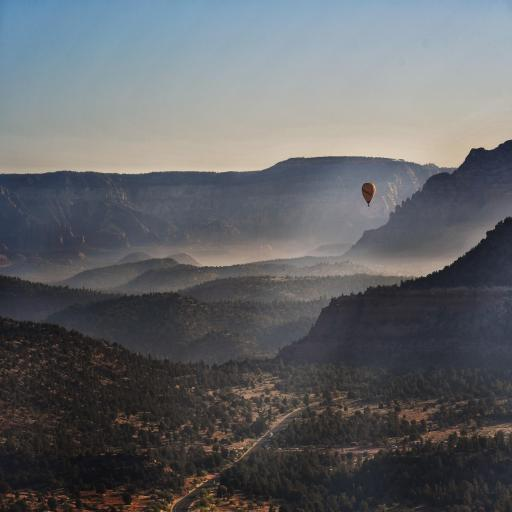hot air ballon: (362, 183, 376, 207)
